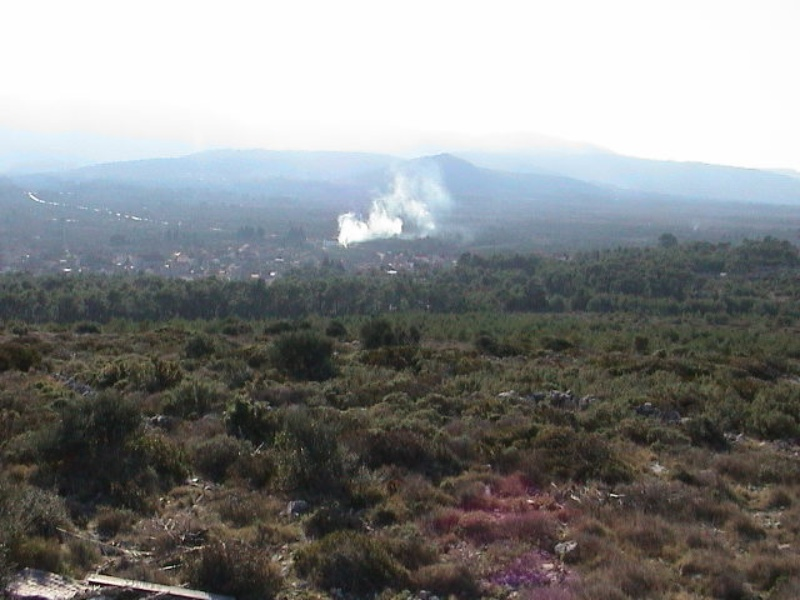smoke: (343, 161, 446, 243)
